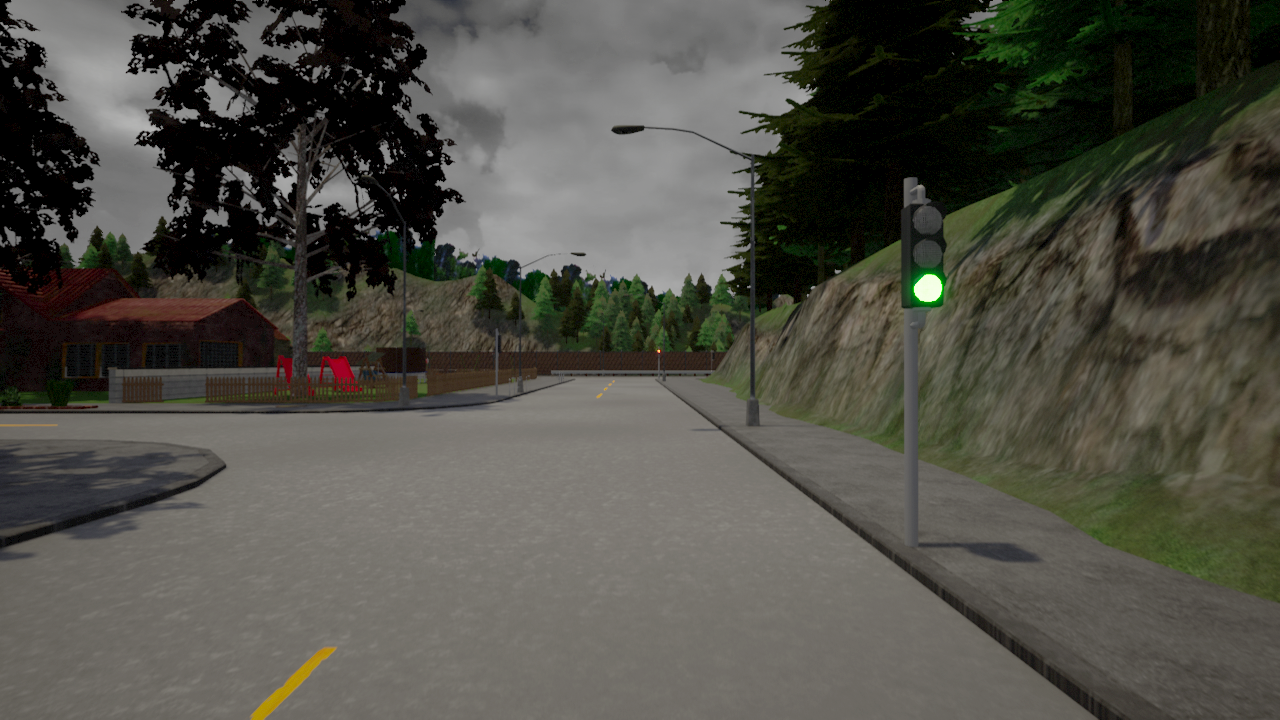green: (896, 201, 948, 312)
